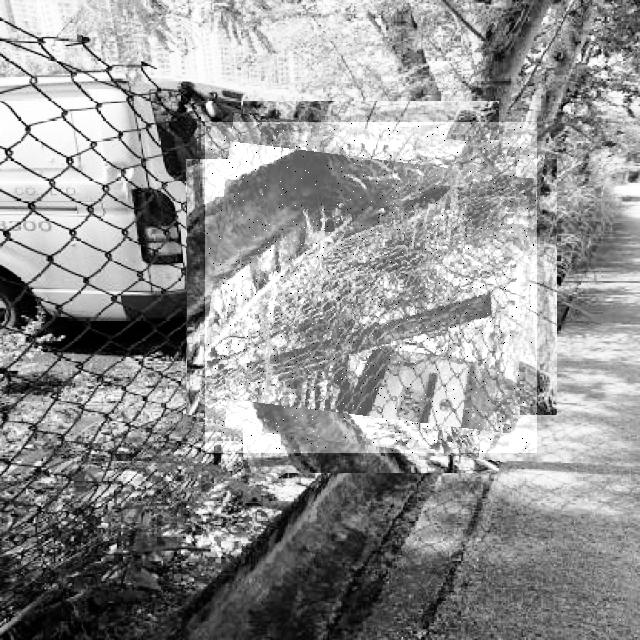anomaly-fence: (205, 122, 537, 453)
